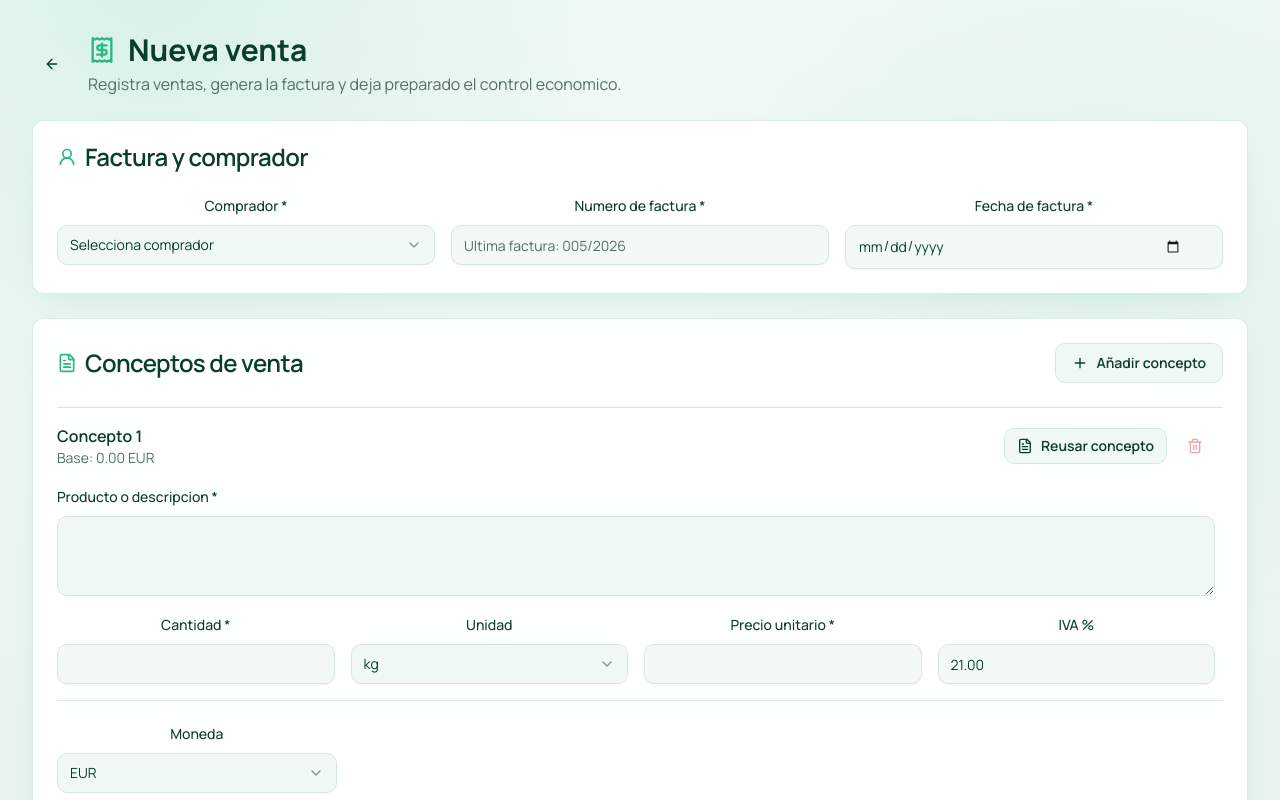
Test case: SaleForm › usa numero de factura manual y una unica fecha operativa
The width and height of the screenshot is (1280, 800).
Check: the field labelled "Numero de factura *" is shown, box [451,225,829,265]
Click the button "Reusar concepto" at (1085, 446), box [1004,428,1167,464]
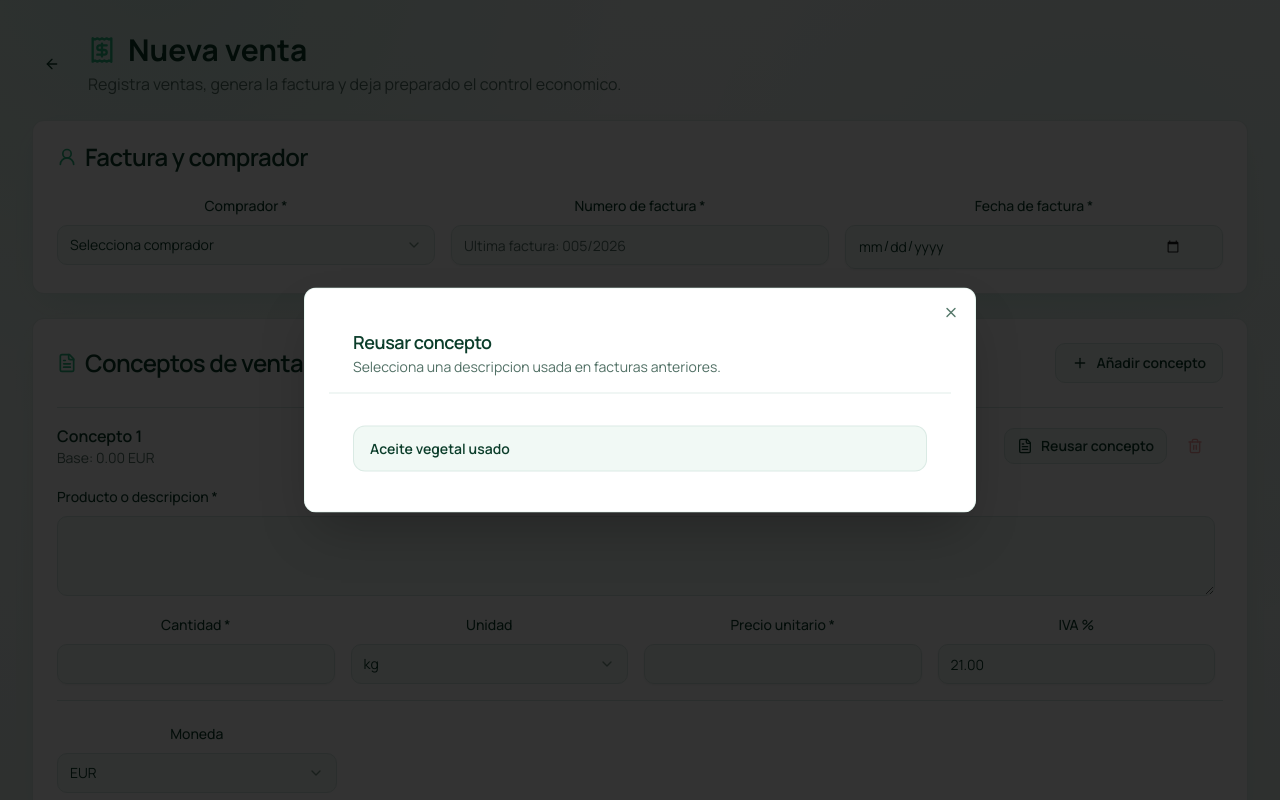
Check: the heading "Reusar concepto" is shown, box [353,330,492,354]
Click the button "Aceite vegetal usado" at (440, 448), box [353,426,927,472]
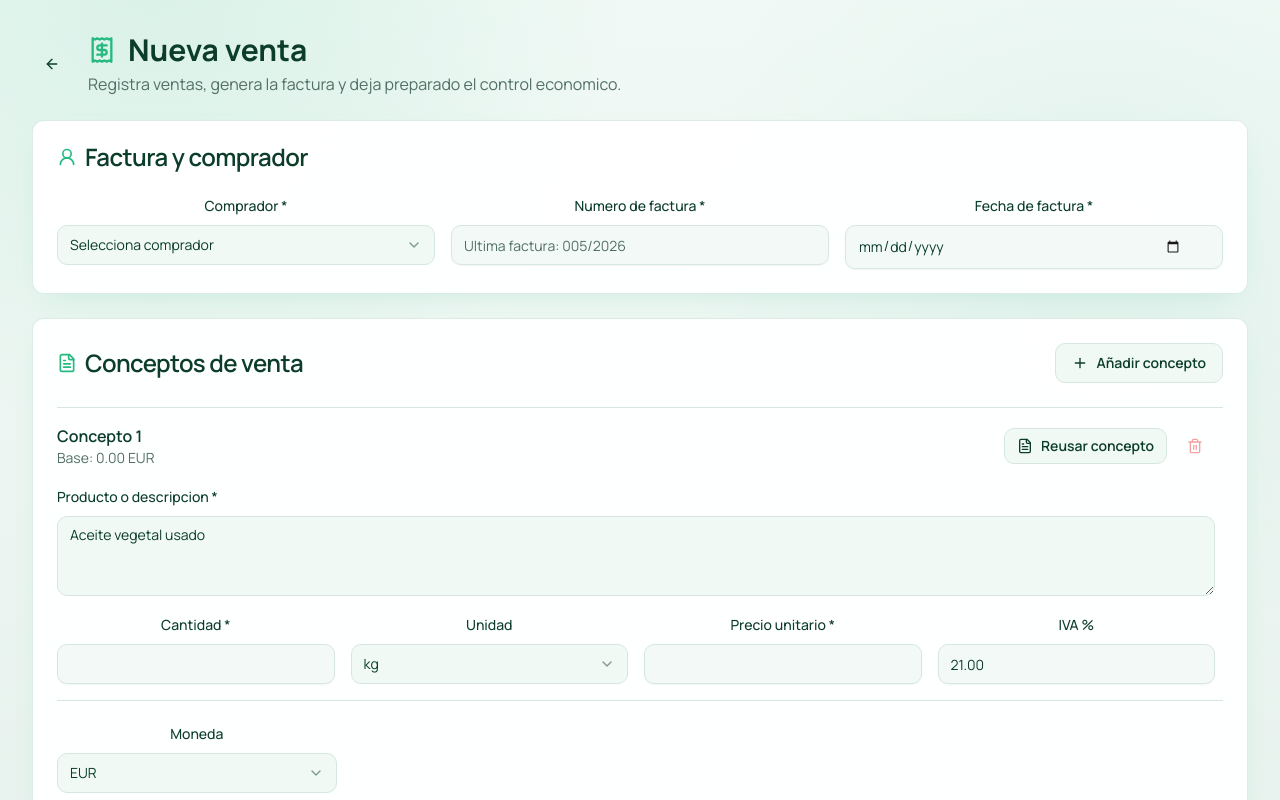
Check: the text "kg" is shown, box [364,654,379,674]
Check: the text box labelled "Producto o descripcion *" holds "Aceite vegetal usado", box [57,516,1215,596]
